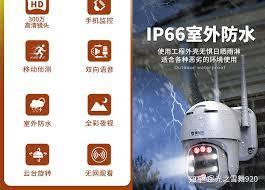maru: (176, 98, 264, 190)
